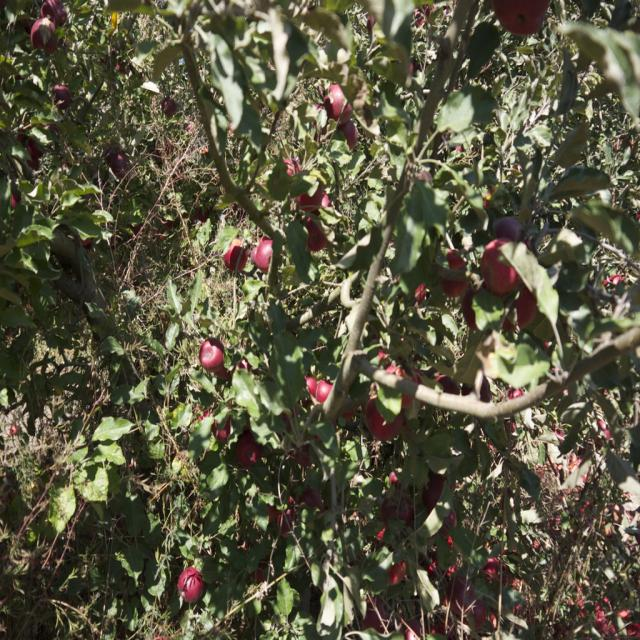Healty Apple: (192, 81, 640, 640), (9, 0, 180, 248), (491, 0, 548, 38), (178, 567, 204, 602)
